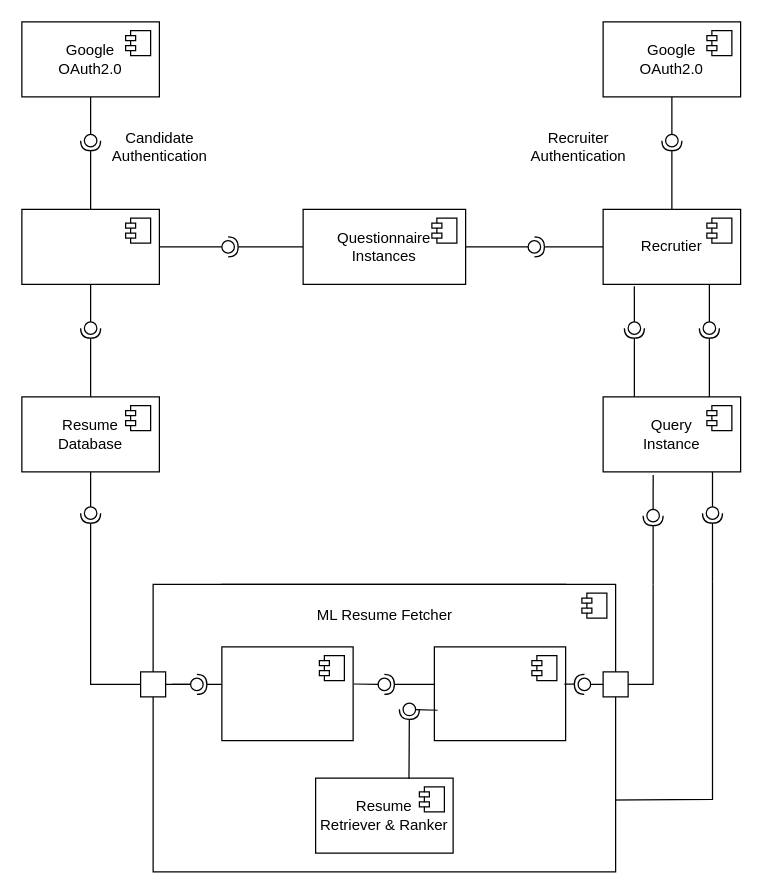
The diagram is 763 pixels wide and 894 high, and some of its shapes have lost their labels. Here are the shapes that lost their labels. From the top down, the box of each, then its label:
(21, 208, 159, 284): Candidate
(221, 646, 353, 741): Resume Converter to Pre-defined Schema
(433, 646, 566, 741): ML Model
